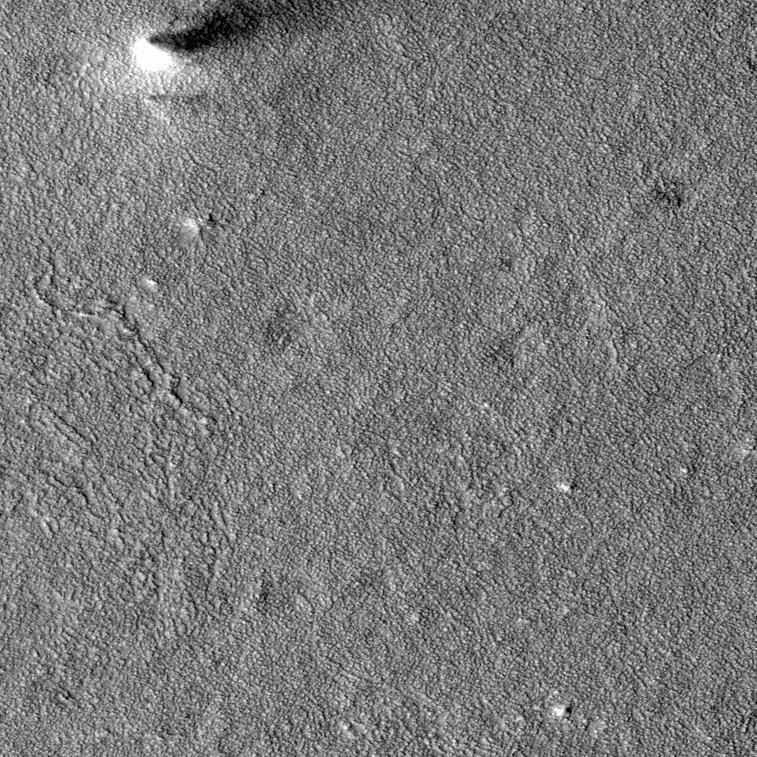dust_devil: (124, 1, 335, 84)
